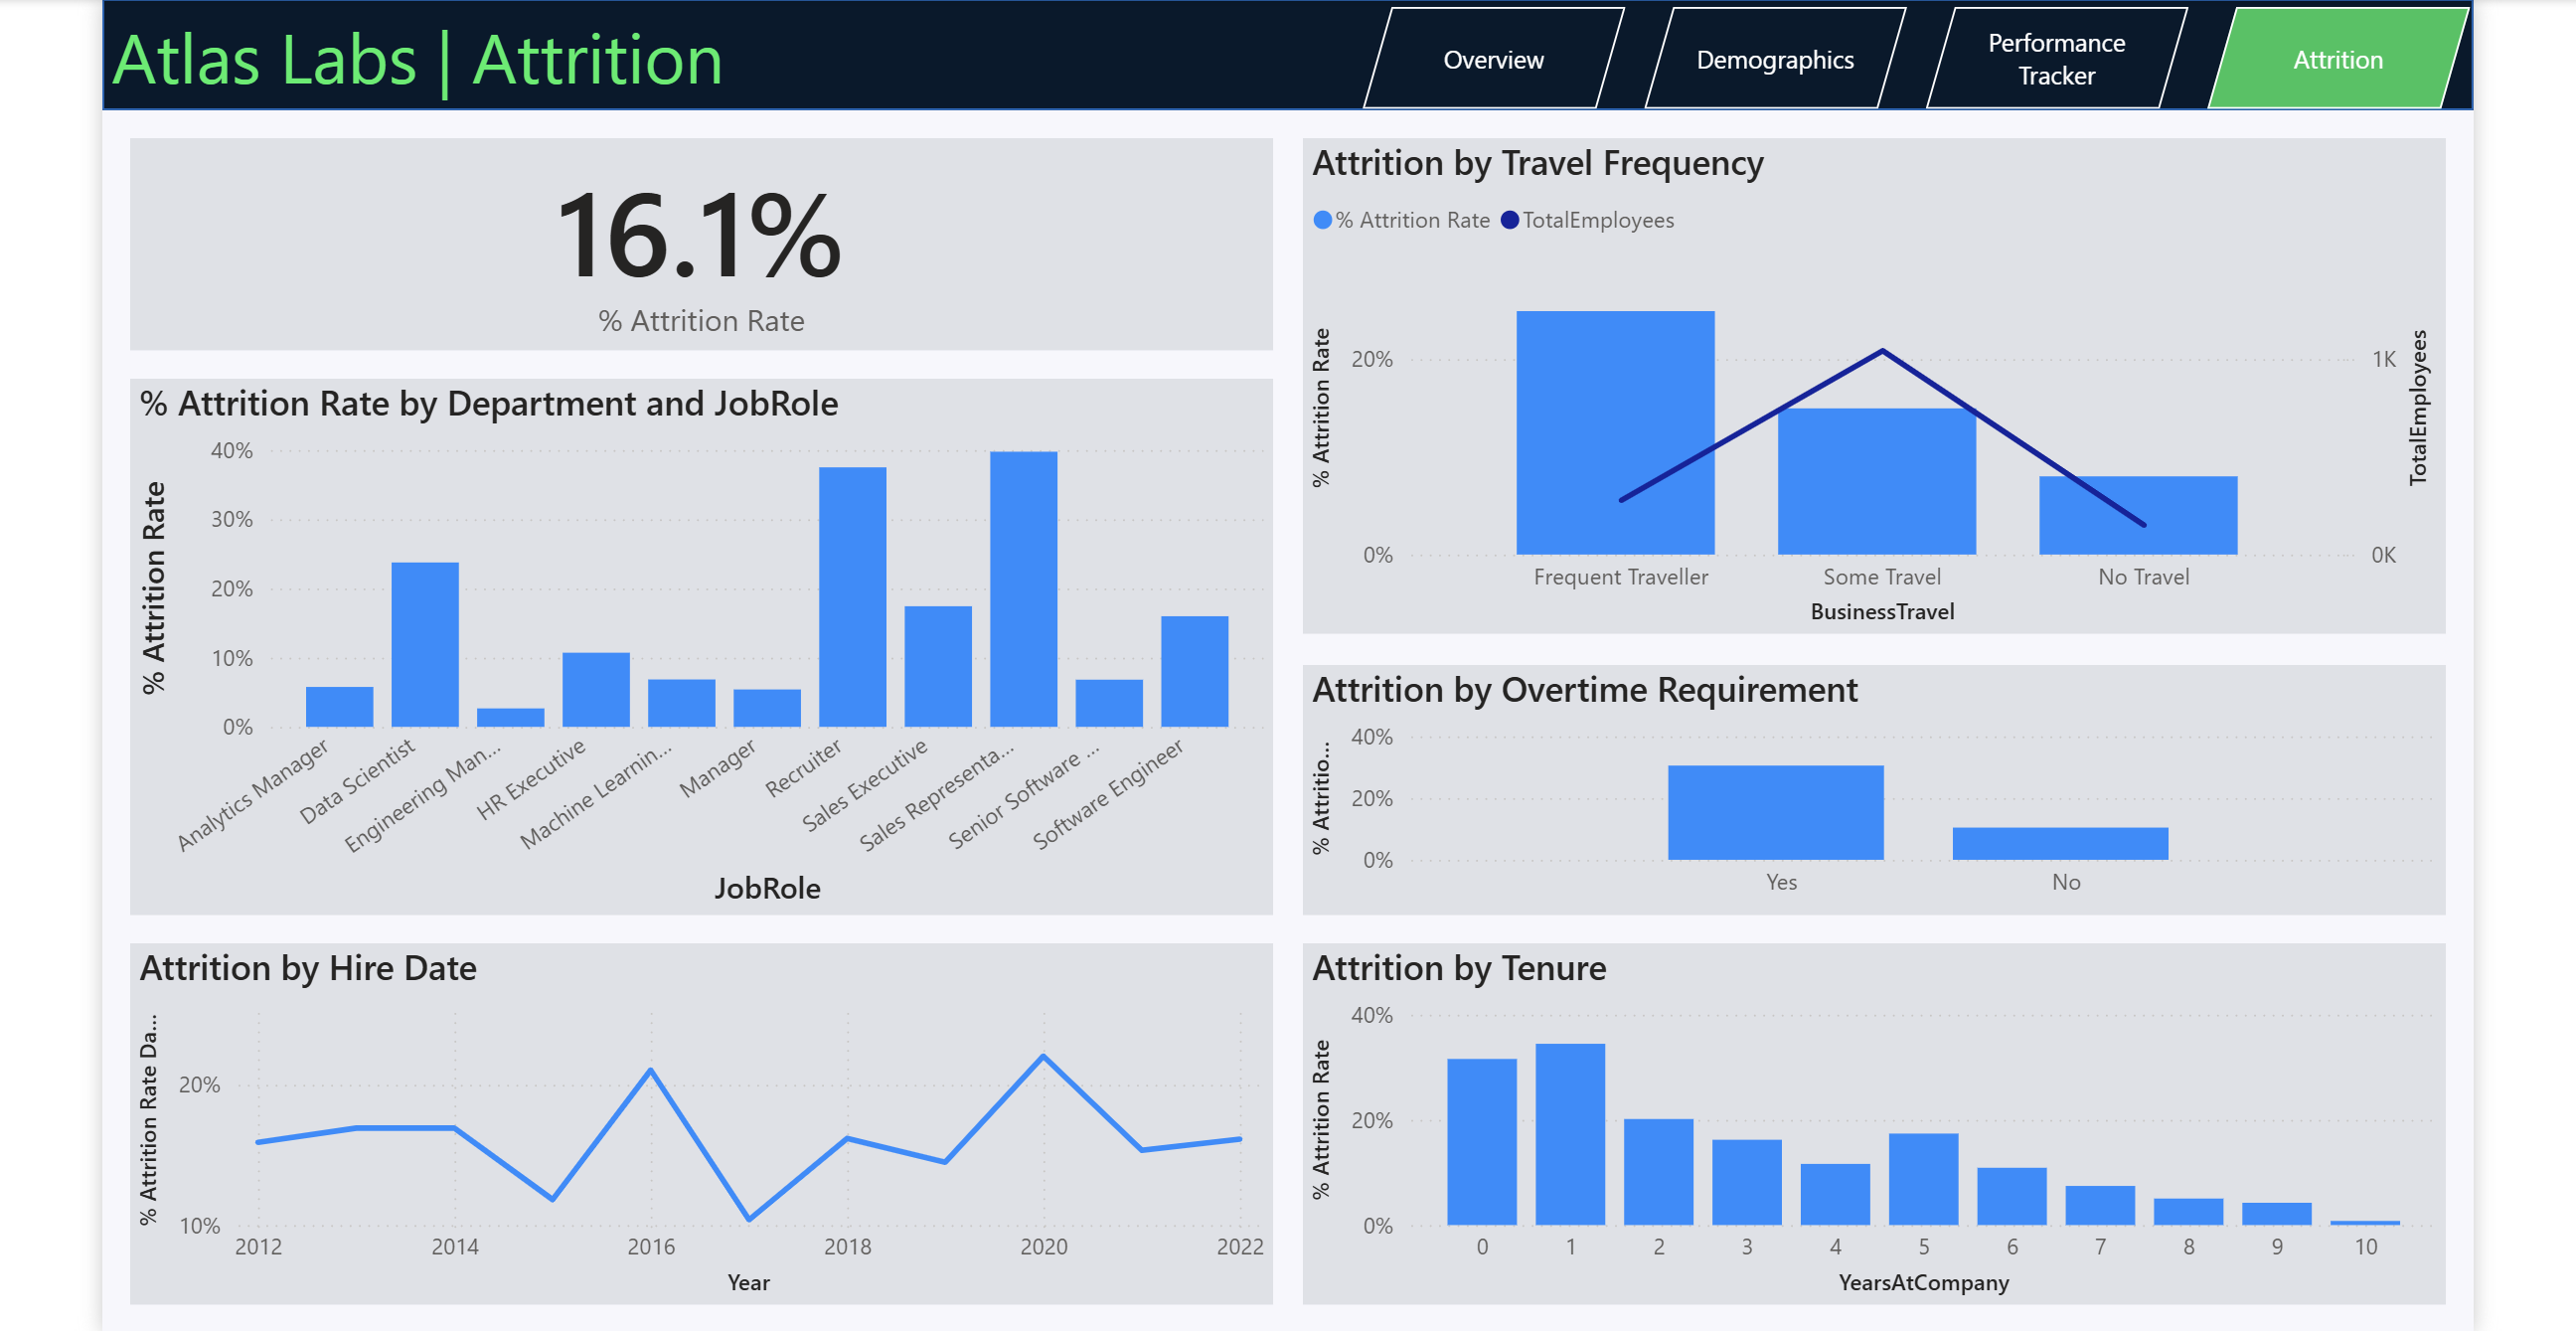

This screenshot's page, from the dashboard's own definition file:
{"tool":"powerbi","page":{"name":"Attrition","canvas":[1280,720],"ordinal":3},"visuals":[{"type":"shape","box":[0,0,1280,60],"z":0},{"type":"textbox","box":[0,0,1280,60],"z":1000},{"type":"card","fields":{"Values":["_Measures.% Attrition Rate"]},"box":[15.3,75.2,617.1,114.7],"z":2000},{"type":"clusteredColumnChart","title":"% Attrition Rate by Department and JobRole","fields":{"Y":["_Measures.% Attrition Rate"],"Category":["DimEmployee.Department","DimEmployee.JobRole"]},"box":[15.3,205.3,617.1,289.4],"z":3000},{"type":"lineChart","title":"Attrition by Hire Date","fields":{"Category":["DimDate.Date.Variation.Date Hierarchy.Year"],"Y":["_Measures.% Attrition Rate Date"]},"box":[15.3,510,617.1,195.1],"z":4000},{"type":"lineClusteredColumnComboChart","title":"Attrition by Travel Frequency","fields":{"Category":["DimEmployee.BusinessTravel"],"Y":["_Measures.% Attrition Rate"],"Y2":["_Measures.TotalEmployees"]},"box":[647.6,75.2,617.1,267.7],"z":5000},{"type":"clusteredColumnChart","title":"Attrition by Tenure","fields":{"Category":["DimEmployee.YearsAtCompany"],"Y":["_Measures.% Attrition Rate"]},"box":[647.6,510,617.1,195.1],"z":6000},{"type":"columnChart","title":"Attrition by Overtime Requirement","fields":{"Category":["DimEmployee.OverTime"],"Y":["_Measures.% Attrition Rate"]},"box":[647.6,359.5,617.1,135.1],"z":7000},{"type":"pageNavigator","box":[680.1,4.5,599.9,55.7],"z":8000}]}

Visuals, with their boxes on the page's 1280x720 design canvas (x1, y1, x2, y2). These are canvas units, not pixel positions in the 2576x1331 screenshot, which may show the page scaled, cropped or inside an application window:
shape: region(0, 0, 1280, 60)
textbox: region(0, 0, 1280, 60)
card - _Measures.% Attrition Rate: region(15, 75, 632, 190)
"% Attrition Rate by Department and JobRole" clusteredColumnChart: region(15, 205, 632, 495)
"Attrition by Hire Date" lineChart: region(15, 510, 632, 705)
"Attrition by Travel Frequency" lineClusteredColumnComboChart: region(648, 75, 1265, 343)
"Attrition by Tenure" clusteredColumnChart: region(648, 510, 1265, 705)
"Attrition by Overtime Requirement" columnChart: region(648, 360, 1265, 495)
pageNavigator: region(680, 4, 1280, 60)
